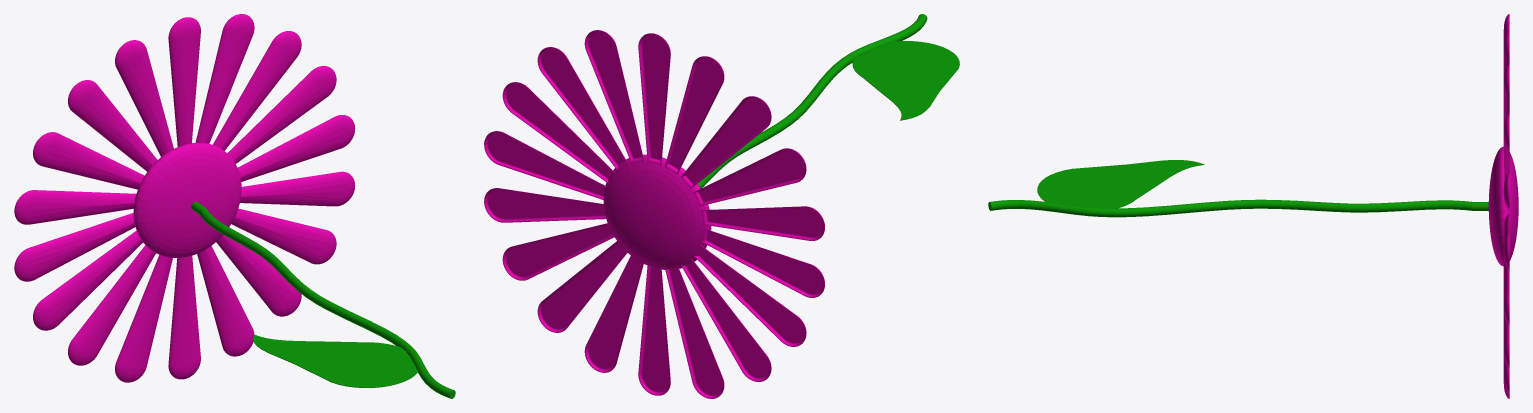
The model's file is pinkflower.fbx.
3 views of the same model, side by side, from view 1: azimuth 30°, elevation 25°; view 2: azimuth 150°, elevation 25°; view 3: azimuth 270°, elevation 25° (orthographic). The views are drawn at different scales.
Visible parts, largest first — view 1: blomma2; view 2: blomma2; view 3: blomma2.
Part boxes in pixels (x1,y1,x2,y2): blomma2: [14, 14, 455, 398]; blomma2: [484, 14, 959, 398]; blomma2: [988, 14, 1518, 398].
Size of the model in its own units: 12730 by 12907 by 17721.
